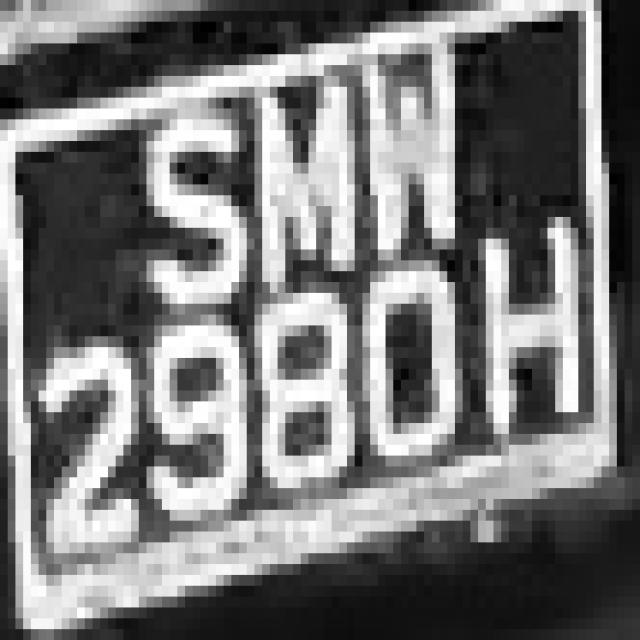0: (347, 250, 463, 488)
2: (46, 304, 124, 575)
8: (254, 249, 354, 532)
9: (139, 282, 247, 553)
H: (462, 195, 594, 488)
M: (247, 76, 370, 282)
S: (147, 65, 239, 336)
W: (339, 54, 463, 260)
